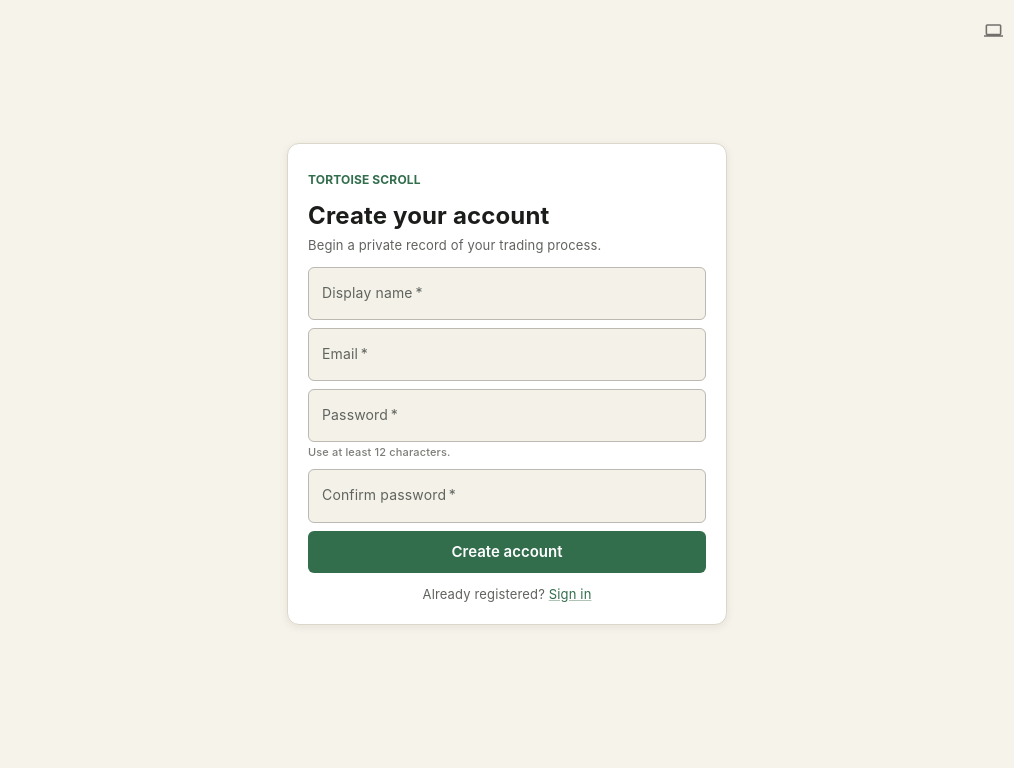
Test: Phase 2 authentication UI › validates registration fields and password confirmation
In the password field labelled "Password *": (507, 416) top-left (308, 389), bottom-right (706, 442), type "long-enough-password"
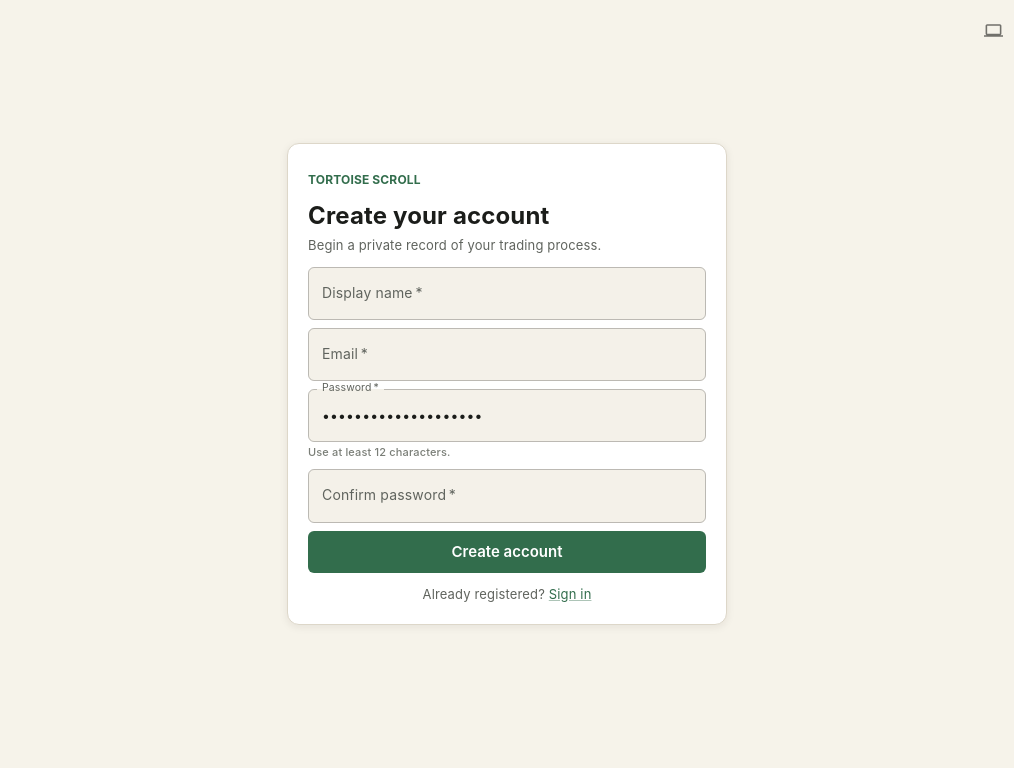
In the password field labelled "Confirm password *": (507, 496) top-left (308, 469), bottom-right (706, 522), type "different-password"
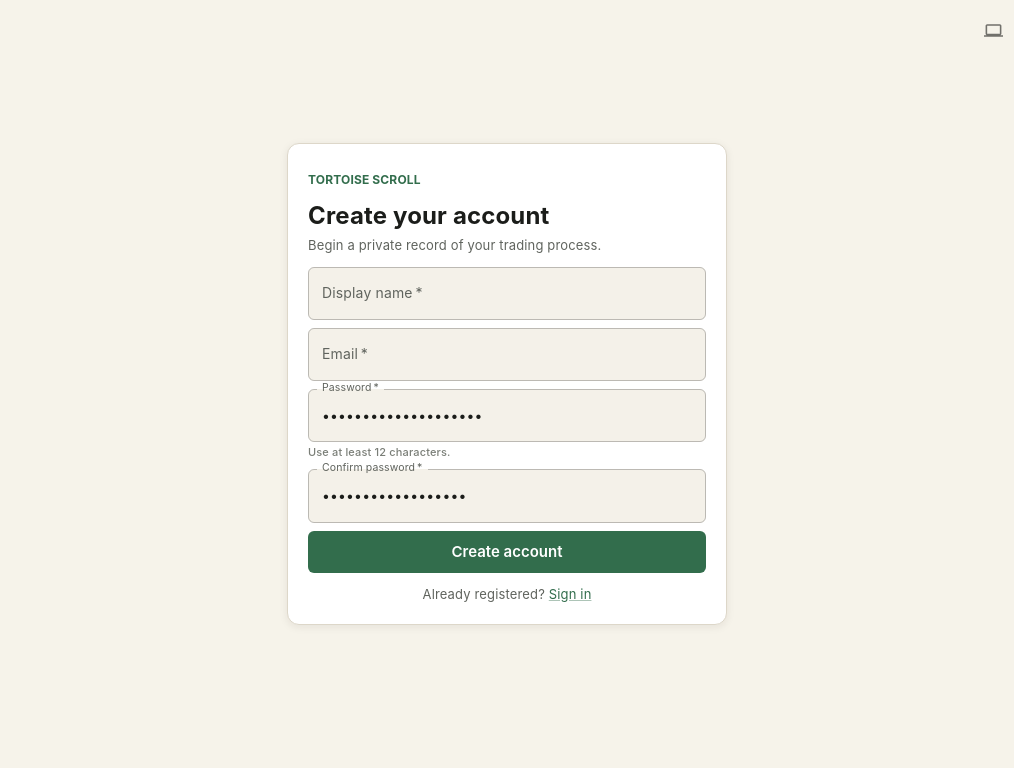
Click the button "Create account": (507, 552) top-left (308, 530), bottom-right (706, 573)
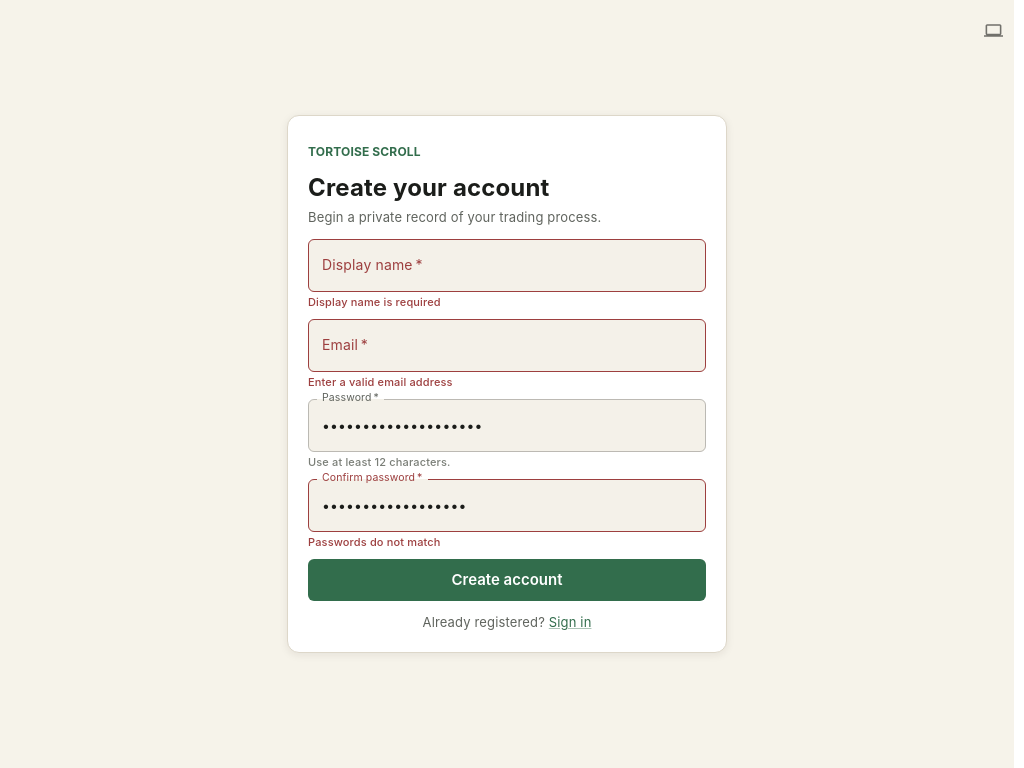
Expected: the text "Display name is required" is shown, top-left (308, 295), bottom-right (441, 309)
Expected: the text "Enter a valid email address" is shown, top-left (308, 375), bottom-right (453, 389)
Expected: the text "Passwords do not match" is shown, top-left (308, 535), bottom-right (441, 549)
